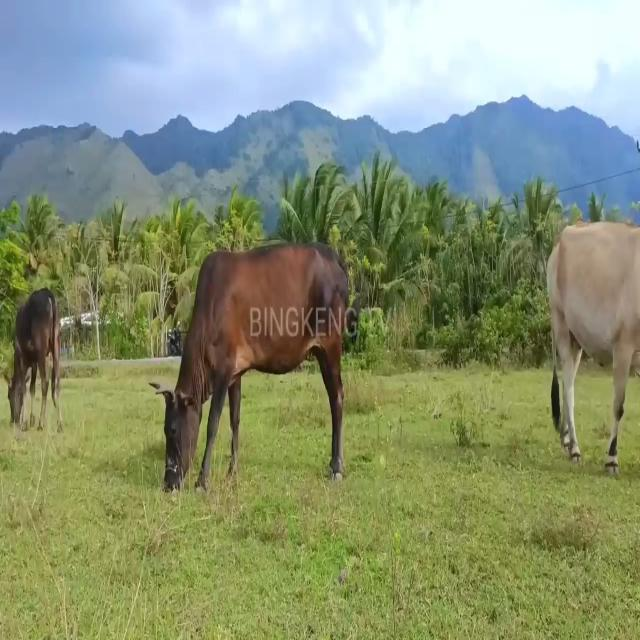cow: (147, 242, 353, 503), (2, 286, 61, 436)
